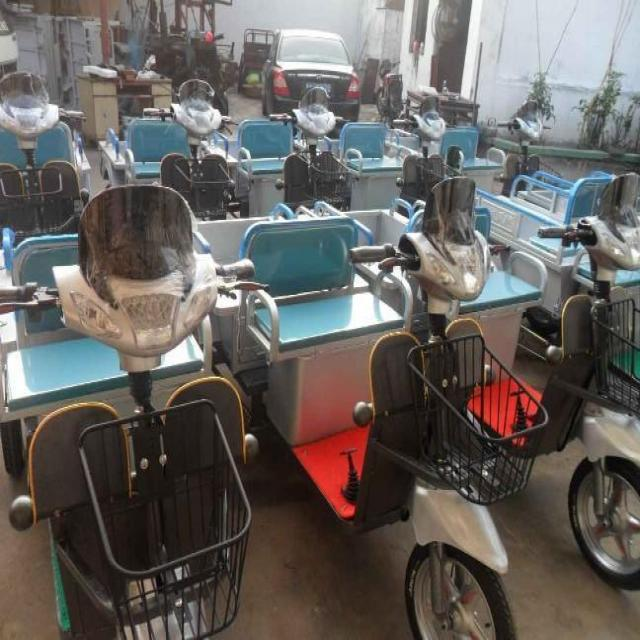car: (260, 26, 360, 121)
tricycle: (194, 172, 546, 638), (2, 184, 259, 631)
